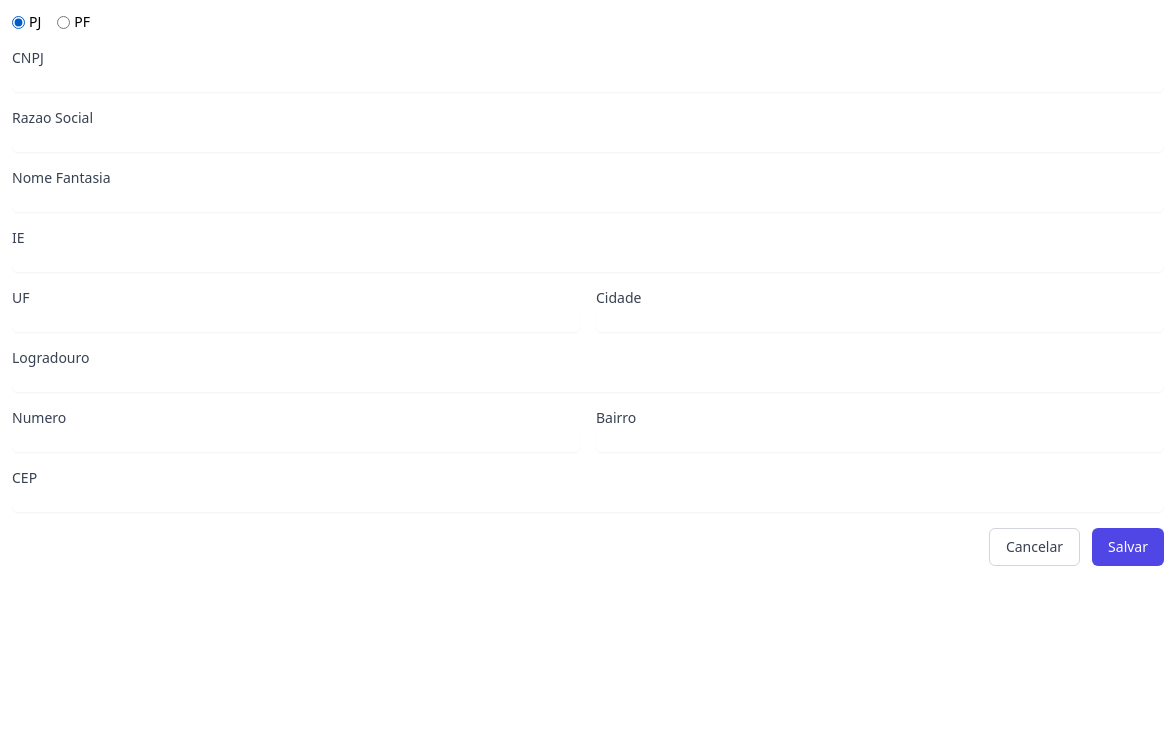
DestinatarioForm › toggles to PF mode and shows CPF field
Click the radio button labelled "PF" at (64, 22), box [57,16,70,28]
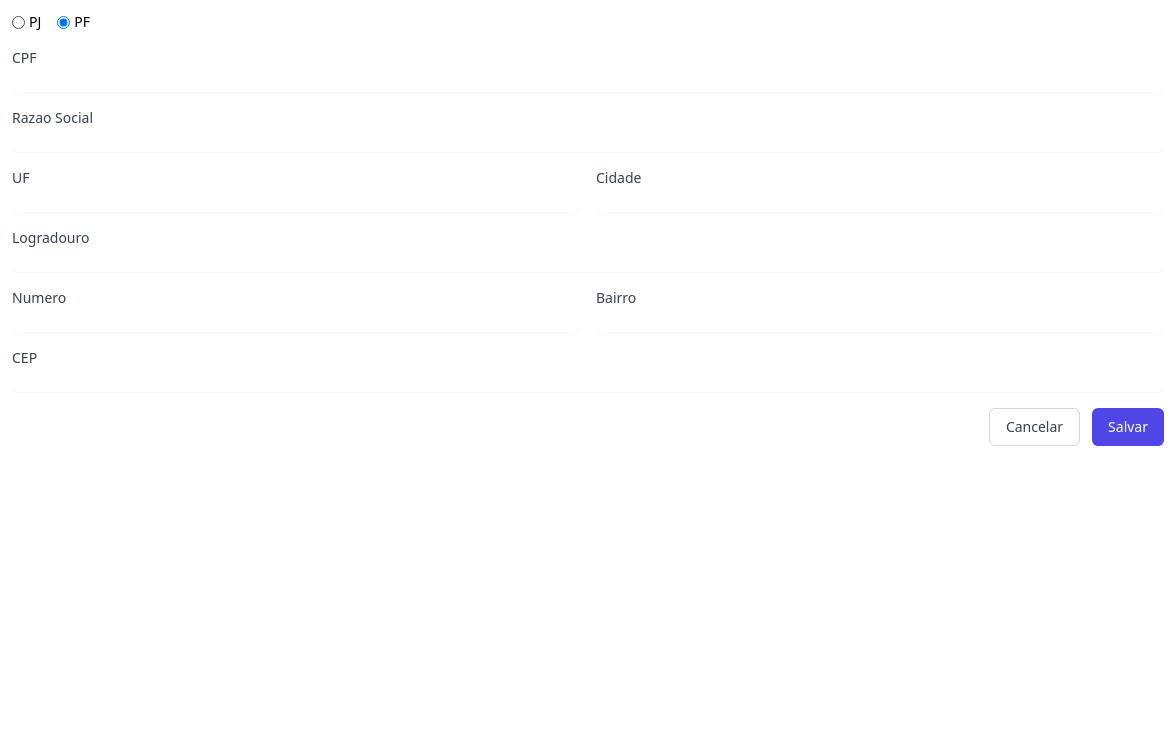
Result: the label labelled "CNPJ" is gone
Result: the label labelled "Nome Fantasia" is gone
Result: the label labelled "IE" is gone
